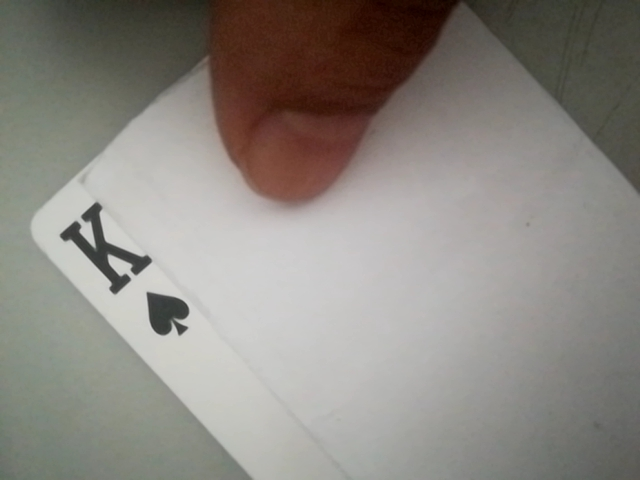ht k: (39, 191, 204, 347)
